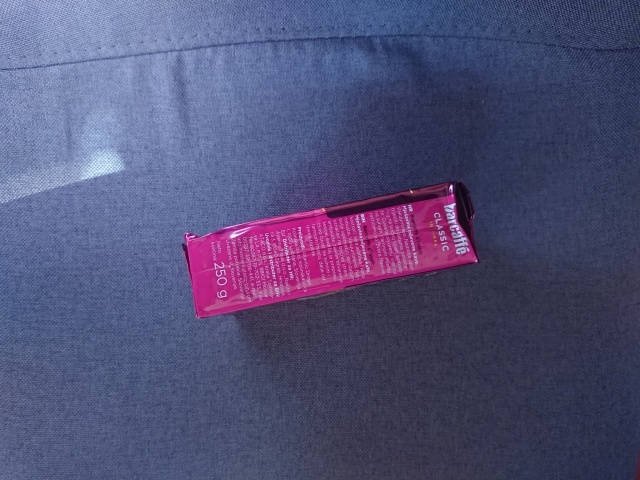Barcaffe Classic Original 225g: (180, 178, 484, 321)
